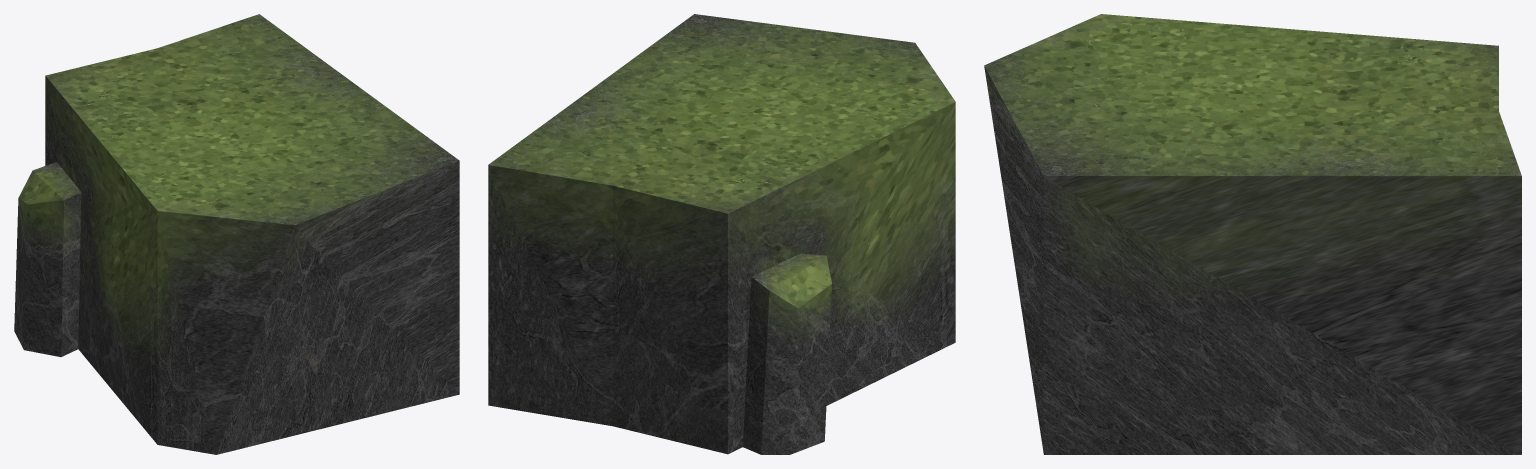
3 views of the same model, side by side, from view 1: azimuth 30°, elevation 25°; view 2: azimuth 150°, elevation 25°; view 3: azimuth 270°, elevation 25° (orthographic). The views are drawn at different scales.
Parts seen in each view (by area): view 1: 3DObj_Land_5; view 2: 3DObj_Land_5; view 3: 3DObj_Land_5.
Boxes of the visible parts, x1=… form: 3DObj_Land_5: x1=14, y1=14, x2=459, y2=454; 3DObj_Land_5: x1=488, y1=14, x2=955, y2=454; 3DObj_Land_5: x1=984, y1=14, x2=1521, y2=454.
Size of the model in its own units: 179 by 141 by 246.
1 material, 1 textured.
